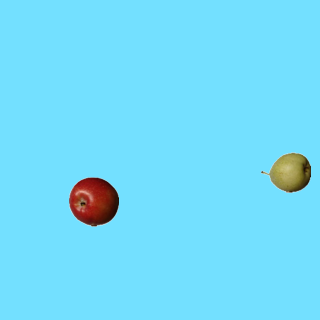Apple Braeburn: (68, 176, 118, 226)
Pear: (260, 147, 310, 197)
